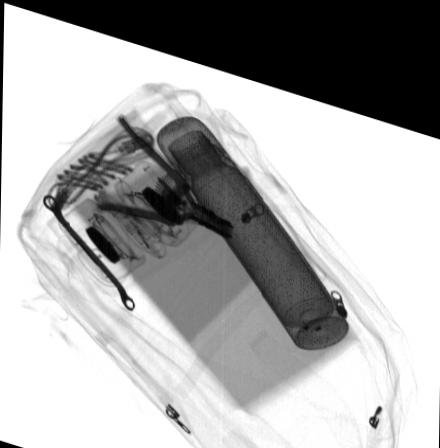Pliers: (94, 105, 234, 226)
Wrench: (41, 191, 135, 302)
